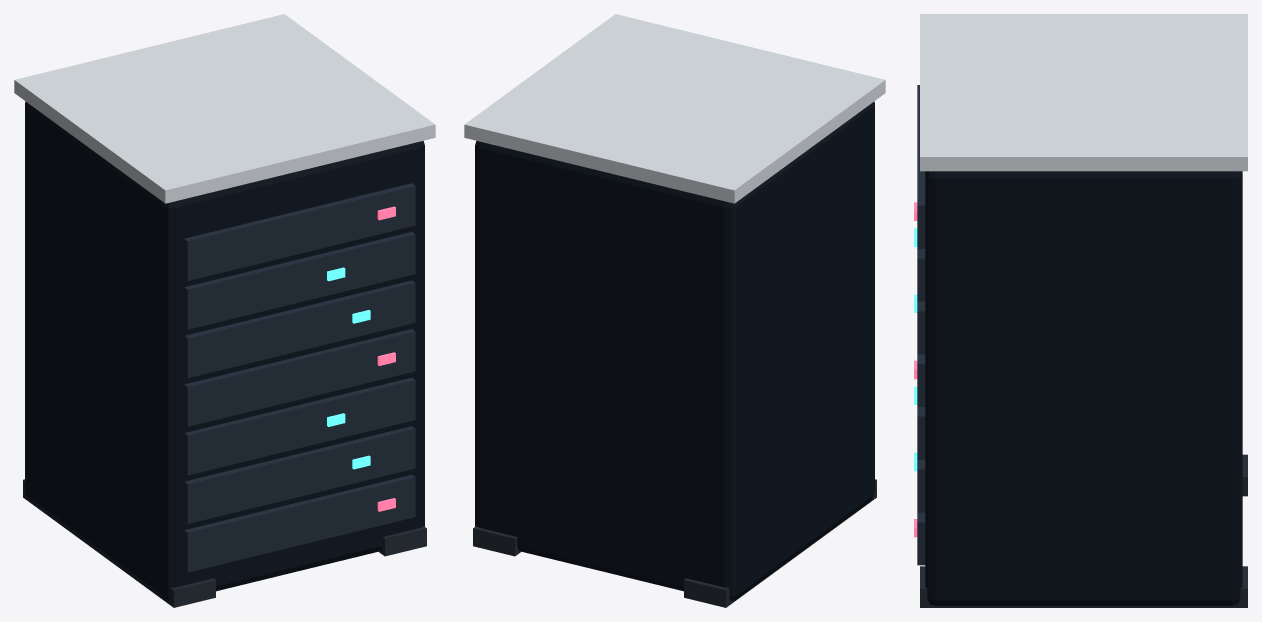
File: Barrier3.fbx
3 renders of one model, left to right at view 1: azimuth 30°, elevation 25°; view 2: azimuth 150°, elevation 25°; view 3: azimuth 270°, elevation 25°, orthographic. The views are drawn at different scales.
Parts seen in each view (by area): view 1: Rack_Cabinet0, Panel_Top0, Inset_Blade4, Inset_Blade1, Inset_Blade5, Inset_Blade2, Inset_Blade3, Inset_Blade6, Inset_Blade0, Metal_Foot0.001, Metal_Foot1.001; view 2: Rack_Cabinet0, Panel_Top0, Metal_Foot0.001, Metal_Foot1.001; view 3: Rack_Cabinet0, Panel_Top0, Metal_Foot1.001, Inset_Blade6, Inset_Blade0, Inset_Blade4, Inset_Blade1, Inset_Blade2, Inset_Blade3, Inset_Blade5.
Boxes of the visible parts, x1,y1,x2,y2 form: Rack_Cabinet0: (25, 101, 424, 601); Panel_Top0: (14, 14, 435, 203); Inset_Blade4: (184, 280, 415, 378); Inset_Blade1: (184, 426, 415, 523); Inset_Blade5: (184, 232, 415, 329); Inset_Blade2: (184, 377, 415, 475); Inset_Blade3: (184, 329, 415, 426); Inset_Blade6: (184, 183, 415, 280); Inset_Blade0: (184, 474, 415, 572); Metal_Foot0.001: (23, 479, 215, 607); Metal_Foot1.001: (379, 526, 426, 556); Rack_Cabinet0: (475, 101, 874, 601); Panel_Top0: (464, 14, 885, 203); Metal_Foot0.001: (684, 479, 876, 607); Metal_Foot1.001: (473, 526, 520, 556); Rack_Cabinet0: (925, 171, 1242, 605); Panel_Top0: (920, 14, 1247, 171); Metal_Foot1.001: (920, 566, 1247, 607); Inset_Blade6: (917, 85, 925, 248); Inset_Blade0: (917, 512, 925, 565); Inset_Blade4: (917, 301, 925, 354); Inset_Blade1: (917, 460, 925, 512); Inset_Blade2: (917, 407, 925, 459); Inset_Blade3: (917, 354, 925, 406); Inset_Blade5: (917, 249, 925, 301).
Size of the model in its own units: 0.64 by 0.631 by 0.95.
